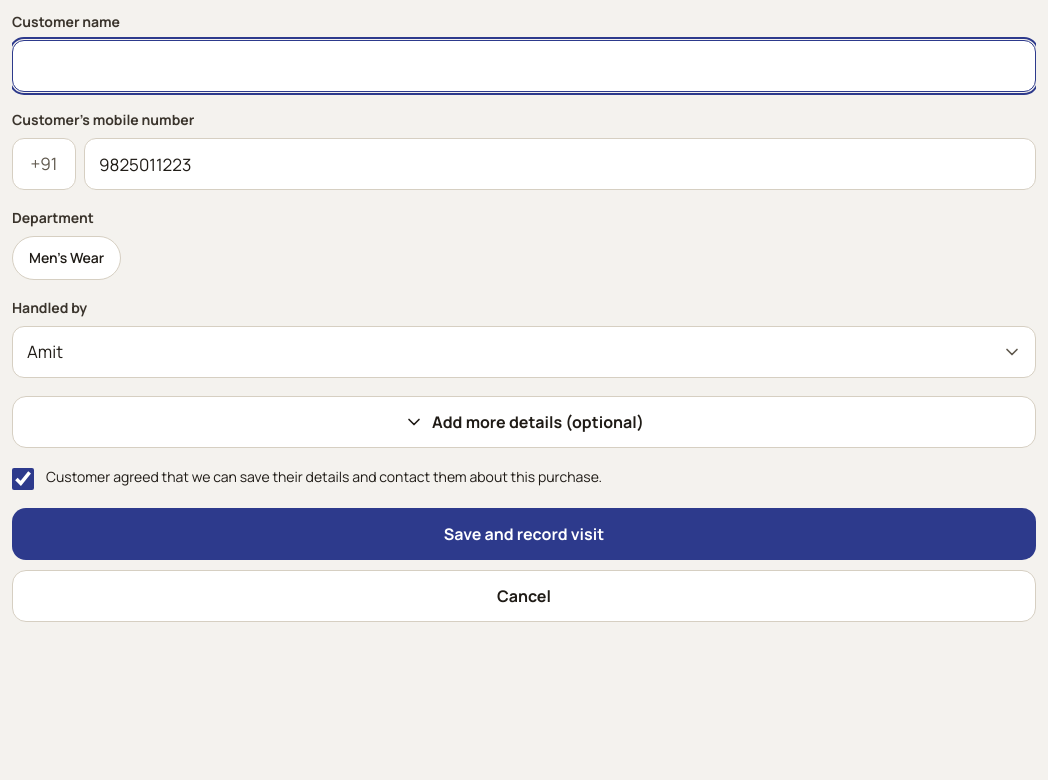
Test: CustomerForm › never swallows an error about a field it does not show
Type "Asha Patel" into the field labelled "Customer name" at (524, 66), box [12, 40, 1036, 92]
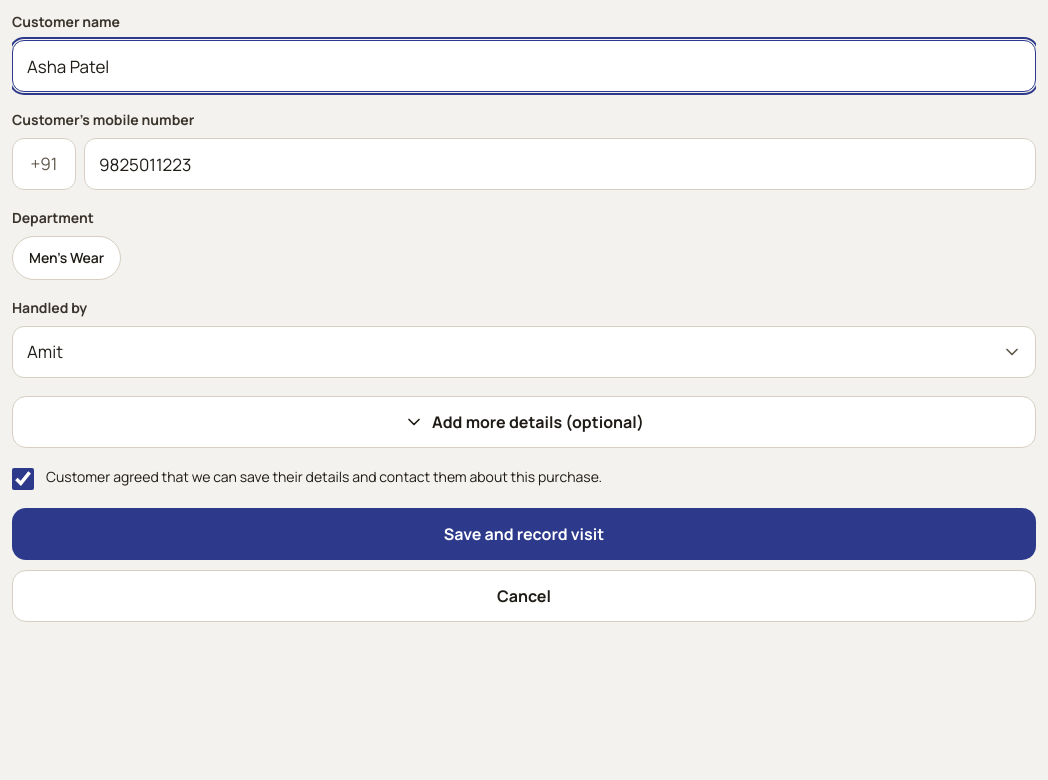
Click the button "Save and record visit" at (524, 534), box [12, 508, 1036, 560]
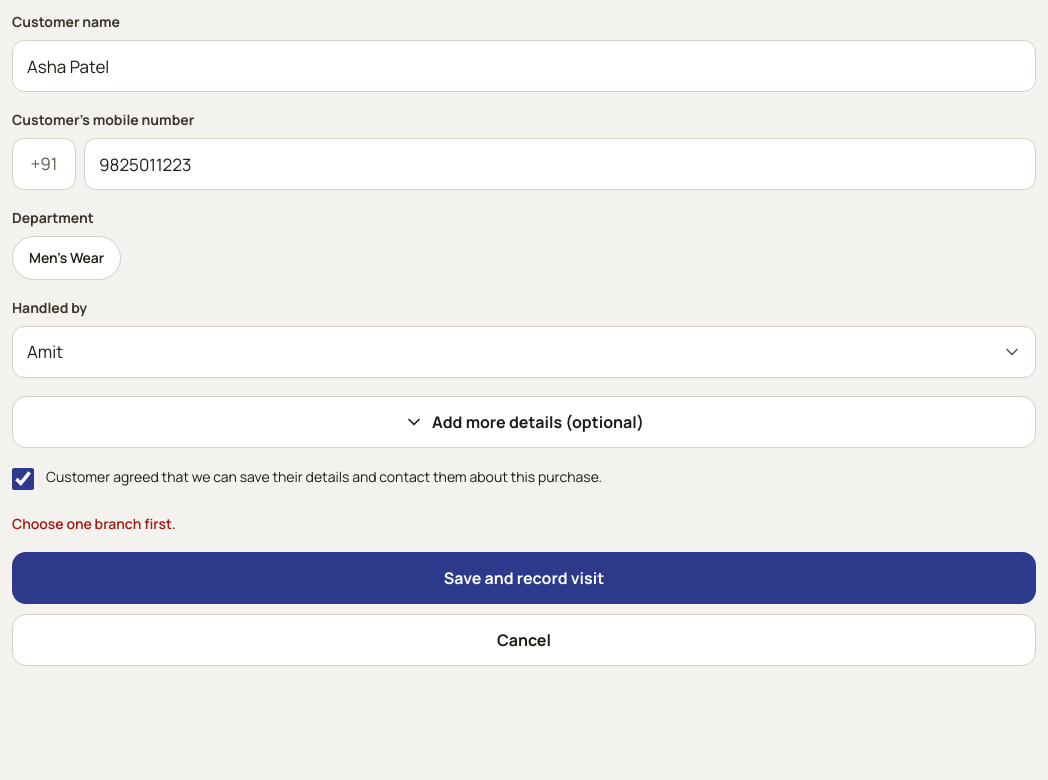
Now the text "Choose one branch first." is shown, box [12, 514, 176, 533]
